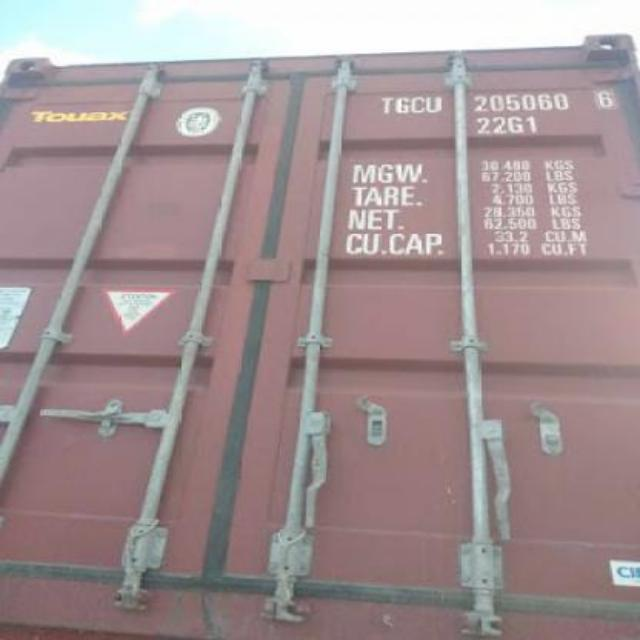0: (552, 90, 570, 114), (522, 92, 538, 112), (488, 94, 504, 110)
2: (472, 94, 488, 112)
5: (504, 92, 522, 112)
6: (594, 88, 614, 110), (538, 93, 552, 111)
C: (411, 96, 424, 114)
G: (394, 94, 408, 116)
T: (381, 94, 394, 115)
U: (426, 94, 442, 114)
